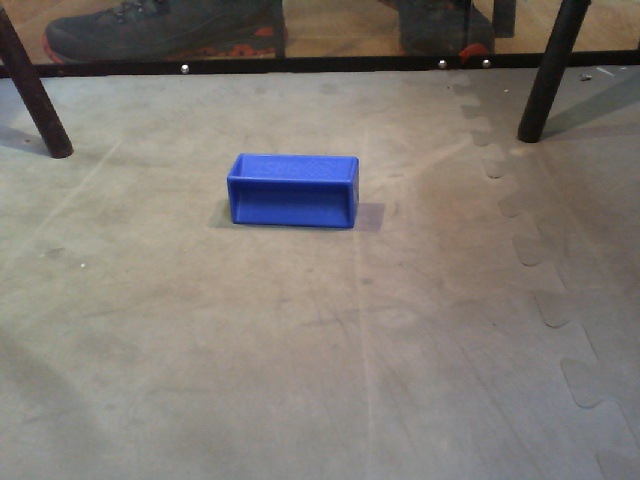BlueSample: (223, 147, 362, 233)
